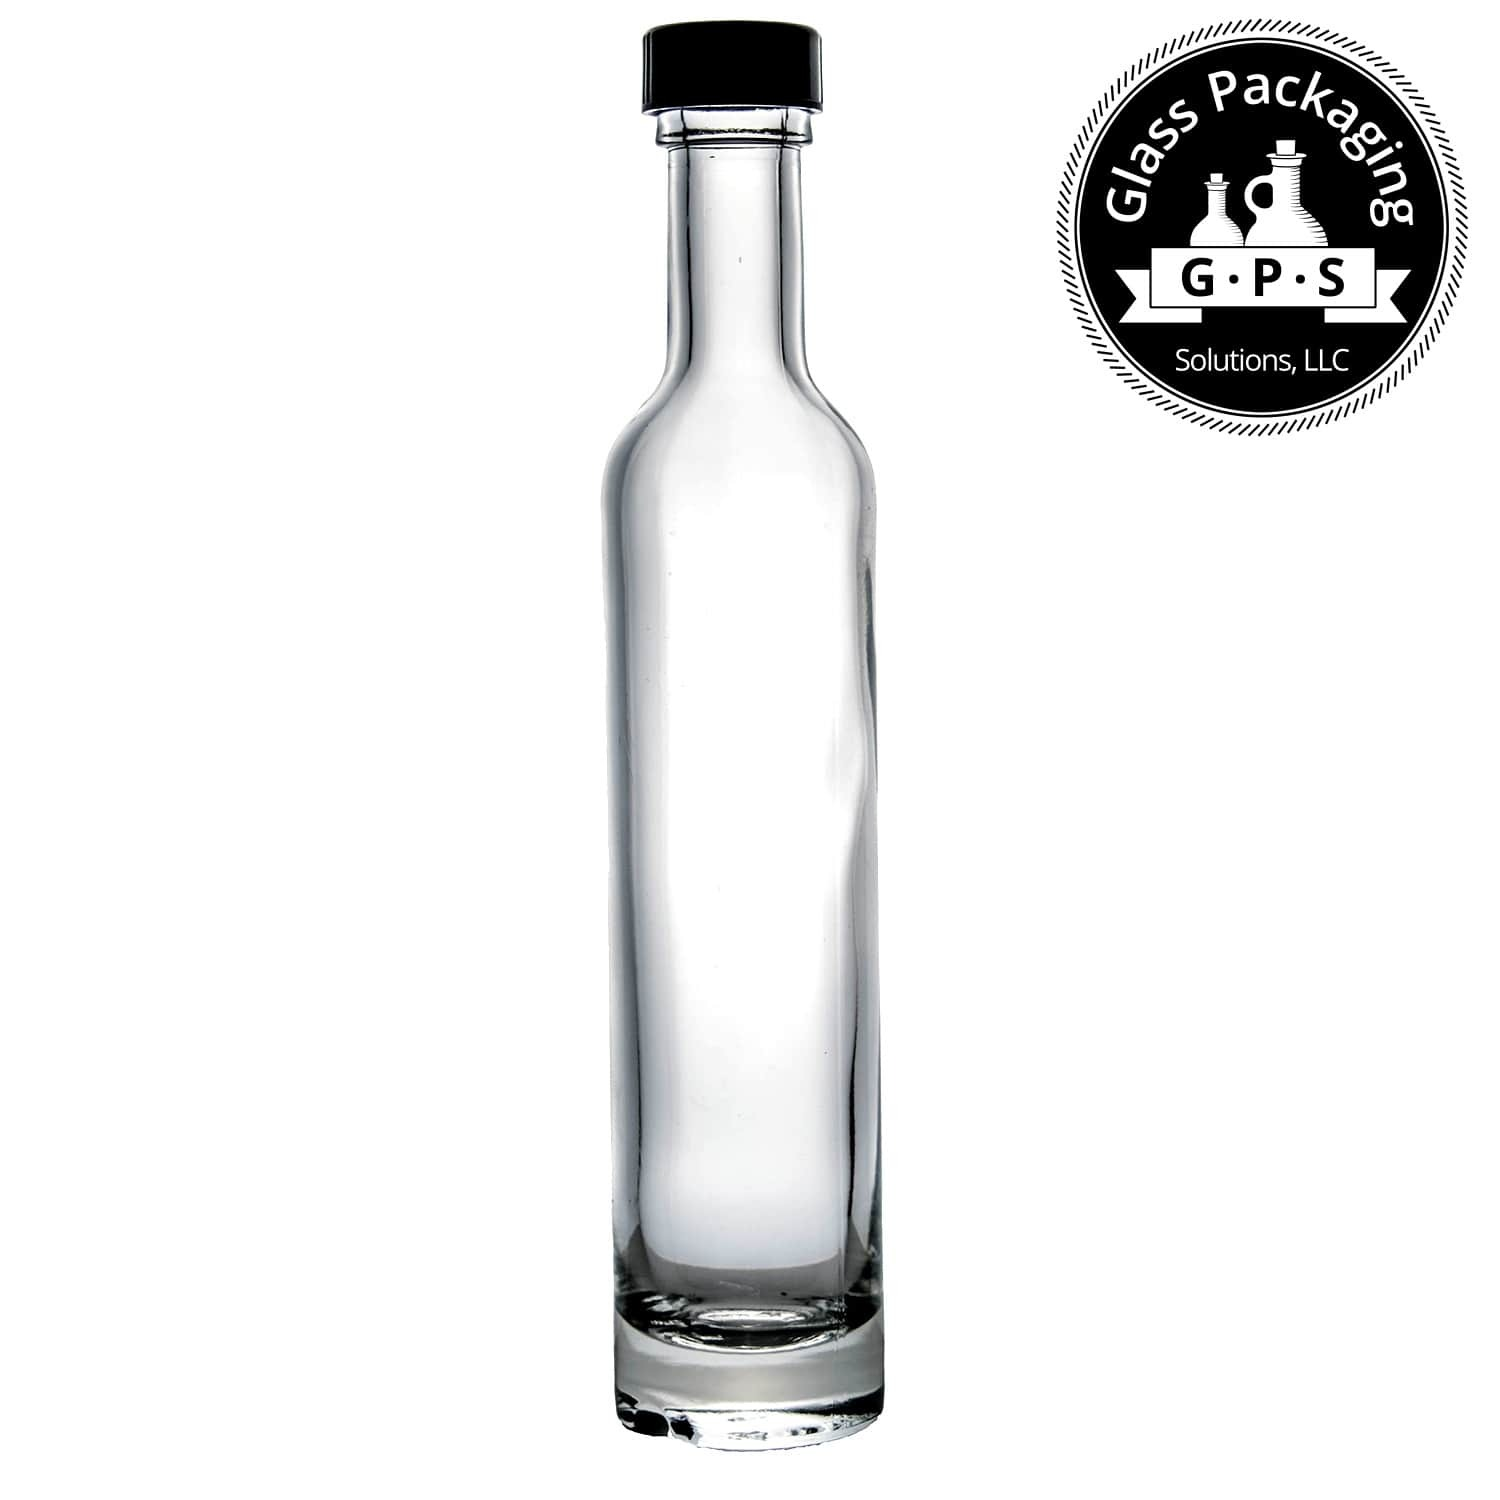container: (578, 11, 913, 1456)
